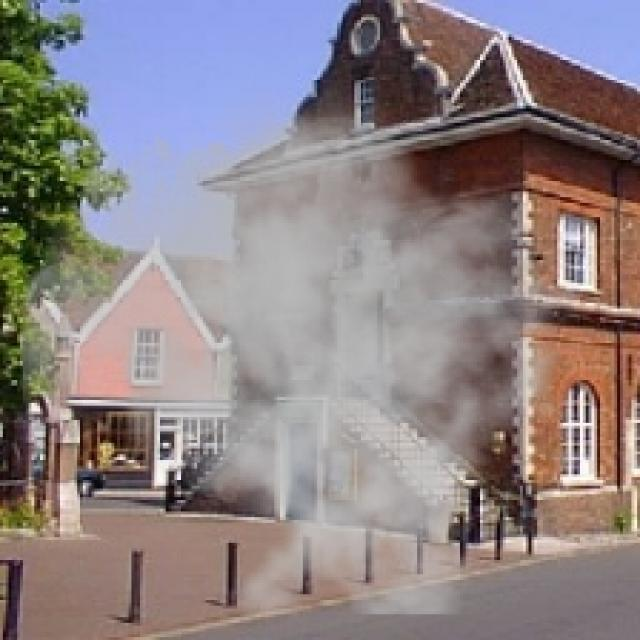Smoke: (17, 60, 580, 614)
